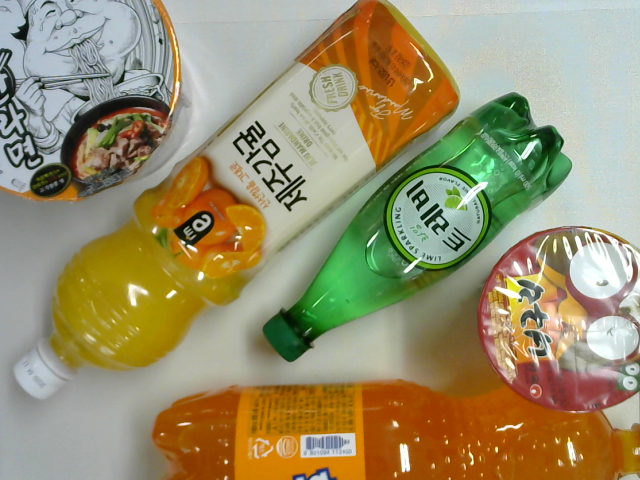Hejangchan: (1, 1, 198, 207)
Hwanta_Orange_1.5L: (156, 376, 640, 479)
Jeju_Tangerine_1.5L: (9, 1, 463, 410)
Raccoon: (477, 222, 640, 417)
Treviraim_500ml: (259, 89, 574, 369)
